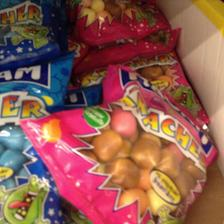Suessigkeit: (31, 75, 206, 217), (73, 0, 165, 48)
